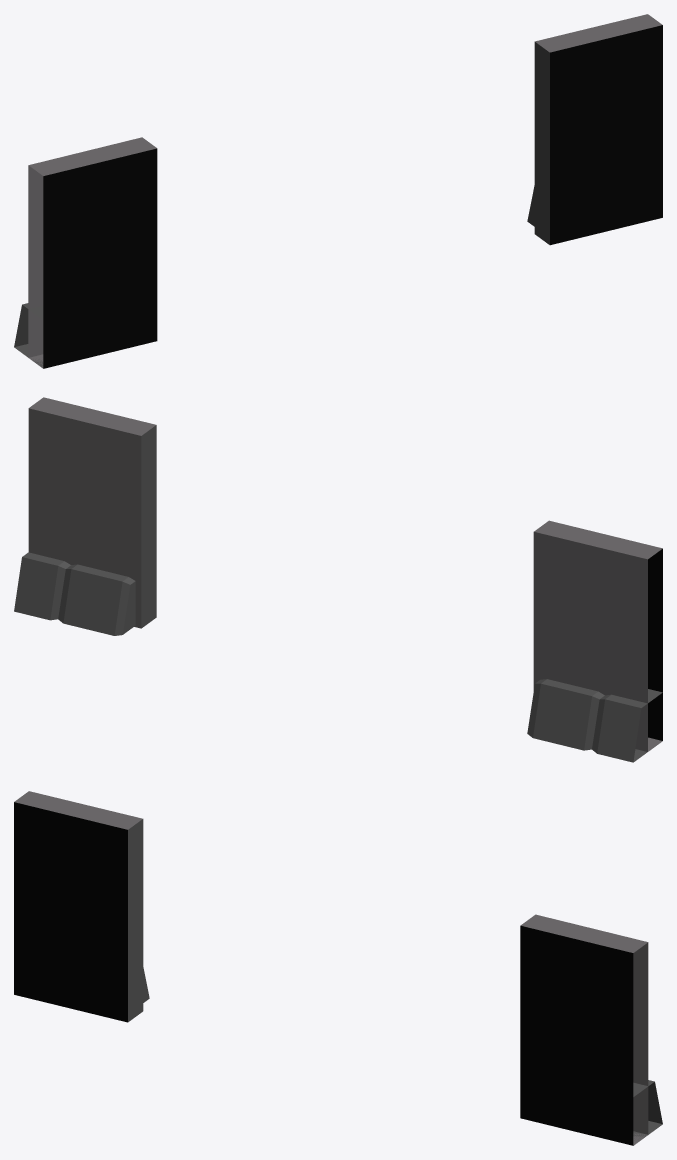
File: Wall_DoubleDoorway_Base.fbx
3 renders of one model, top to bottom at view 1: azimuth 30°, elevation 25°; view 2: azimuth 150°, elevation 25°; view 3: azimuth 330°, elevation 25°, orthographic.
Visible parts, largest first — view 1: Wall_DoubleDoorway_Base; view 2: Wall_DoubleDoorway_Base; view 3: Wall_DoubleDoorway_Base.
Part boxes in pixels (<box>): Wall_DoubleDoorway_Base: <box>14,14,662,368</box>; Wall_DoubleDoorway_Base: <box>14,397,662,762</box>; Wall_DoubleDoorway_Base: <box>14,791,662,1145</box>.
Size of the model in its own units: 400 by 119 by 33.
